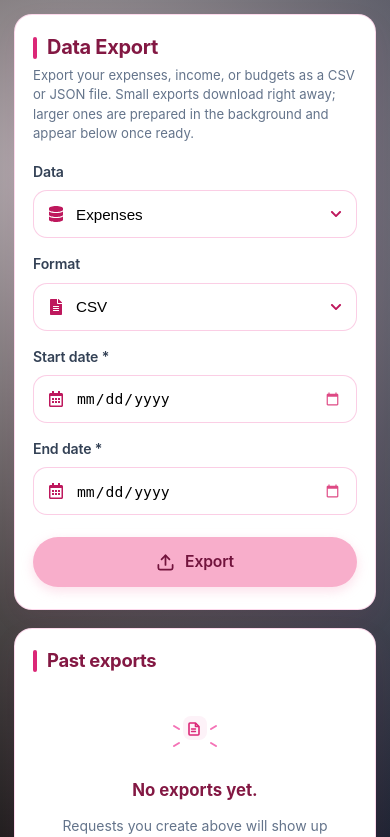
it: DataExport -- form › disables CSV and forces the format back to JSON once domain is All
Select "All" in the dropdown labelled "Data" at (195, 214), box top-left (34, 191), bottom-right (356, 237)
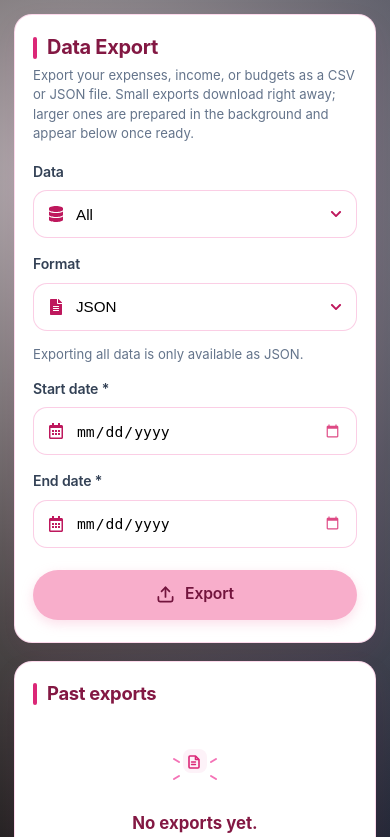
Now the dropdown labelled "Format" shows "JSON", box top-left (34, 284), bottom-right (356, 330)
